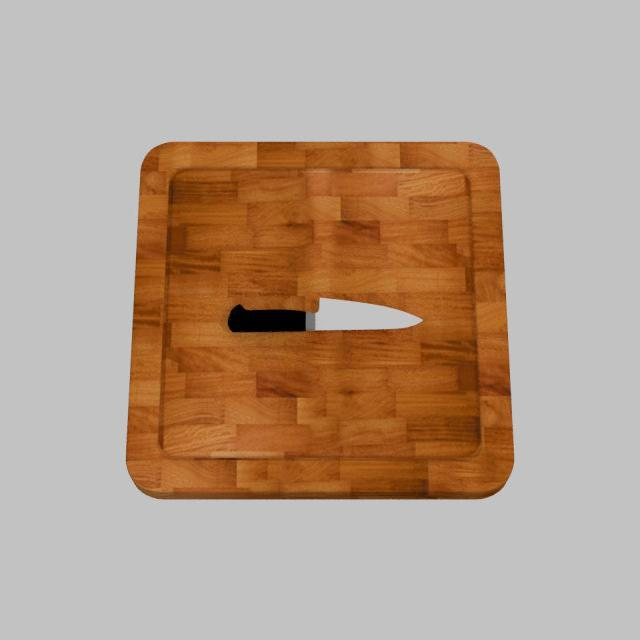knife: (228, 304, 306, 332)
